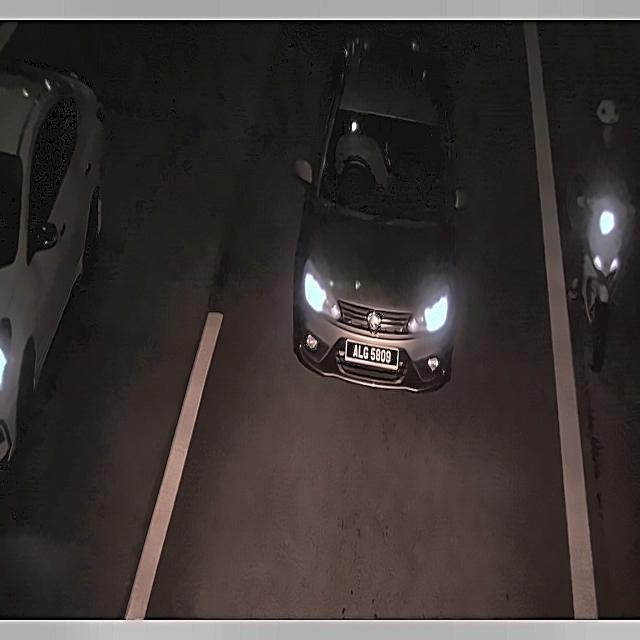car: (342, 337, 402, 381)
